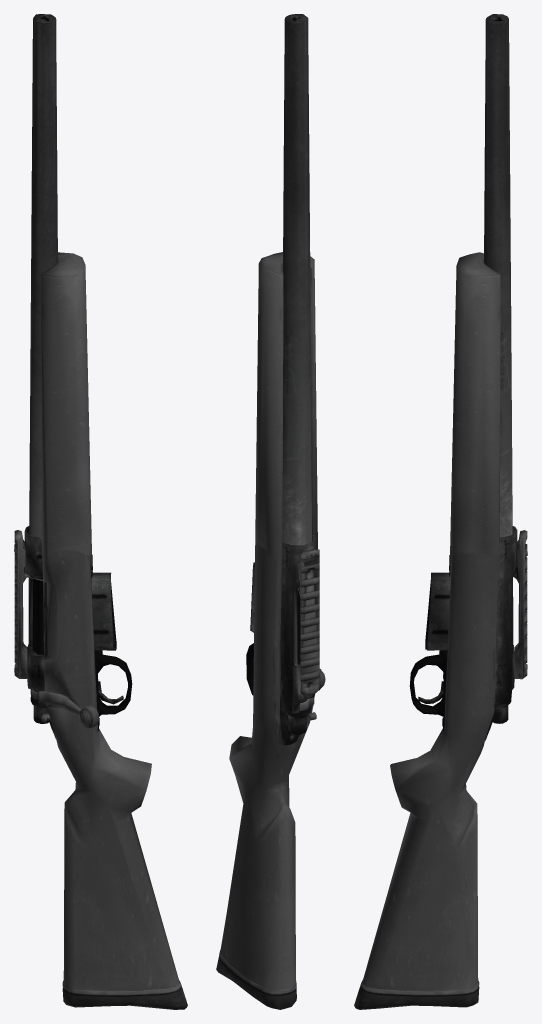
Rendered from HuntingRifle.fbx.
3 views of the same model, side by side, from view 1: azimuth 90°, elevation 25°; view 2: azimuth 210°, elevation 25°; view 3: azimuth 270°, elevation 25° (orthographic).
Visible parts, largest first — view 1: HuntingRifle; view 2: HuntingRifle; view 3: HuntingRifle.
Boxes of the visible parts, x1,y1,x2,y2 form: HuntingRifle: [14, 14, 187, 1009]; HuntingRifle: [216, 14, 325, 1009]; HuntingRifle: [354, 14, 527, 1009].
Bounding box in the file's own units: 0.0515 × 0.6562 × 0.1045.
